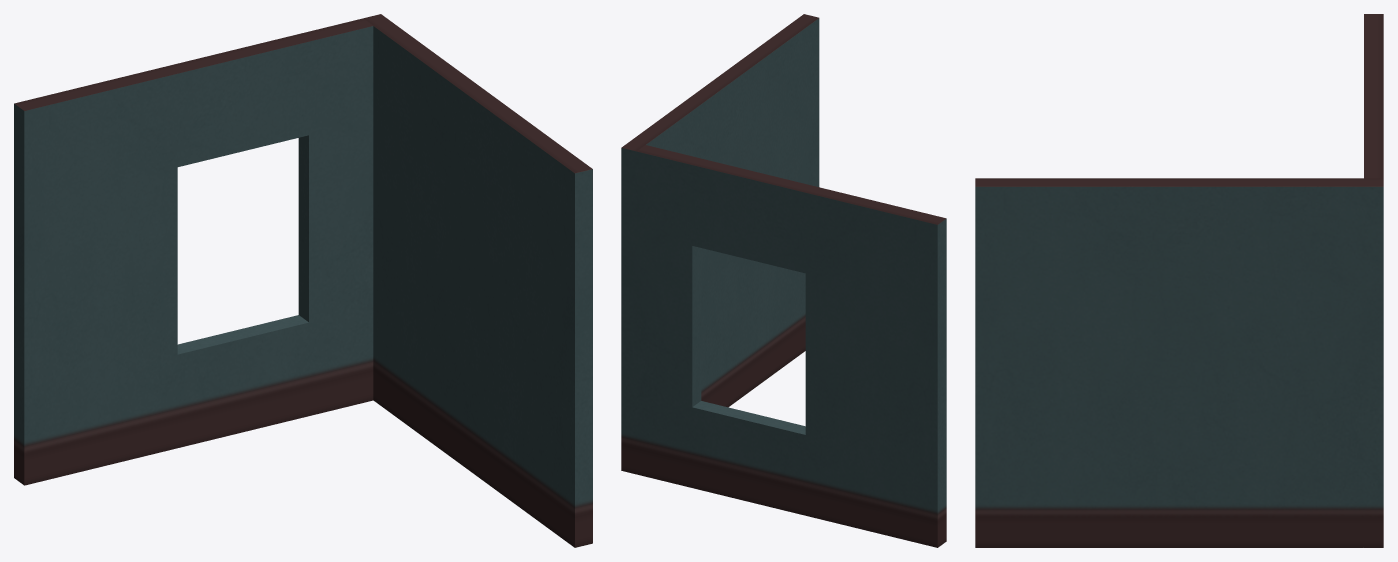
The model's file is Wall_4_Corner_D.fbx.
3 renders of one model, left to right at view 1: azimuth 30°, elevation 25°; view 2: azimuth 150°, elevation 25°; view 3: azimuth 270°, elevation 25°, orthographic. The views are drawn at different scales.
Parts seen in each view (by area): view 1: polySurface28; view 2: polySurface28; view 3: polySurface28.
Part boxes in pixels (left/top/right/bottom): polySurface28: left=14, top=14, right=592, bottom=547; polySurface28: left=621, top=14, right=946, bottom=547; polySurface28: left=975, top=14, right=1383, bottom=547.
Bounding box in the file's own units: 4.1 × 4 × 4.1.
